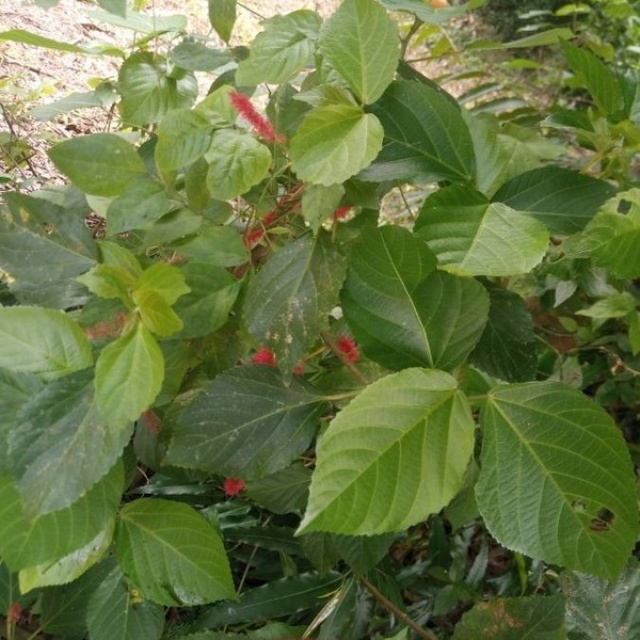obstacle: (49, 23, 608, 592)
